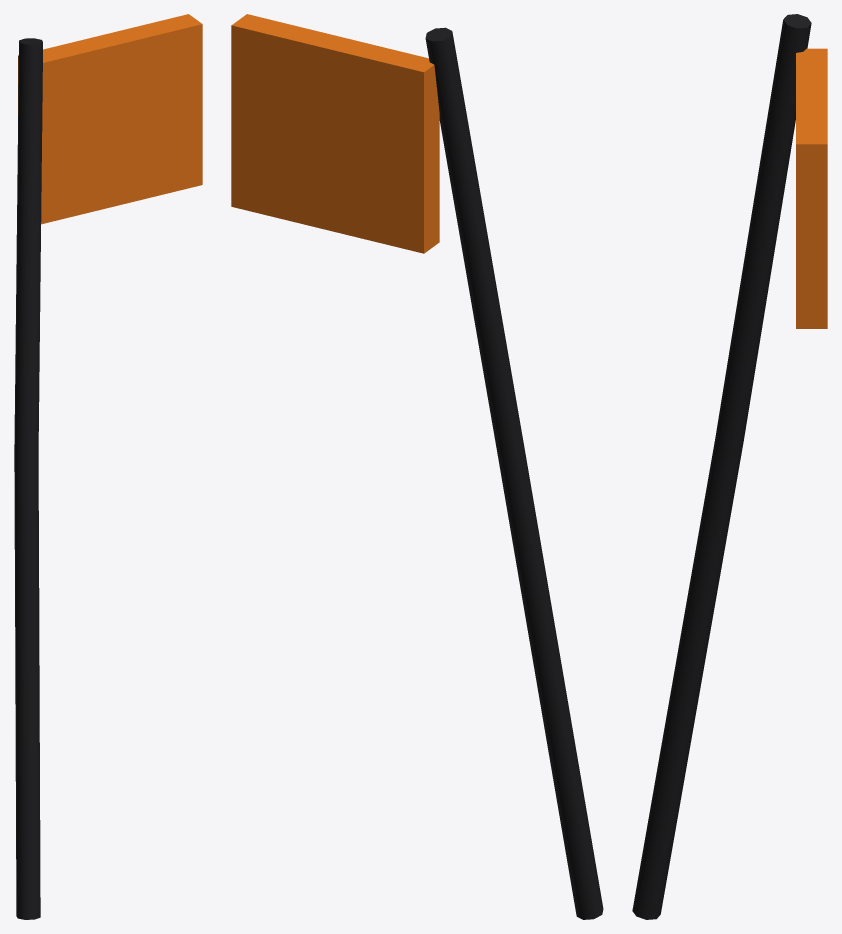
File: antenna_flag.fbx
The picture shows the model from 3 angles, left to right: view 1: azimuth 30°, elevation 25°; view 2: azimuth 150°, elevation 25°; view 3: azimuth 270°, elevation 25°; orthographic projection. The views are drawn at different scales.
Visible parts, largest first — view 1: flag_1, whip_1; view 2: flag_1, whip_1; view 3: whip_1, flag_1.
Part boxes in pixels (x1,y1,x2,y2): flag_1: (18, 14, 202, 224); whip_1: (14, 38, 42, 919); flag_1: (231, 14, 439, 253); whip_1: (425, 27, 603, 919); whip_1: (632, 14, 811, 919); flag_1: (796, 48, 827, 328).
Bounding box in the file's own units: 0.0381 × 0.1186 × 0.0225.
